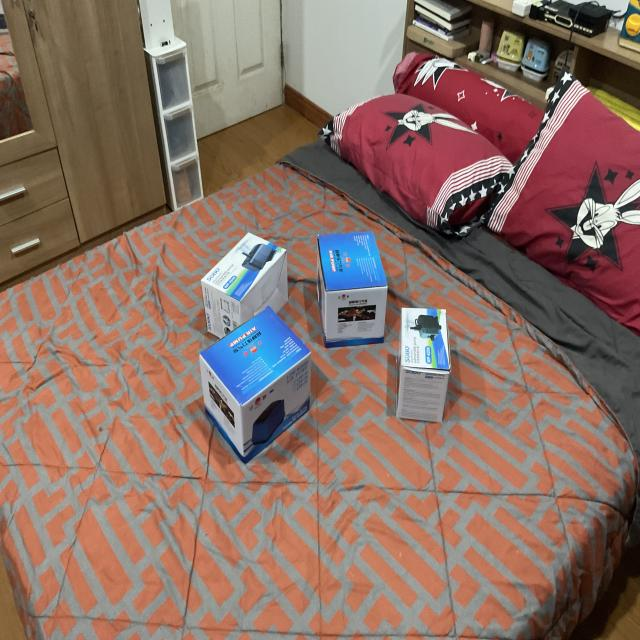SOBO_WP_4200: (194, 220, 298, 352), (393, 294, 459, 442)
YAMANO_LPP_20: (190, 303, 316, 460), (310, 220, 392, 355)
